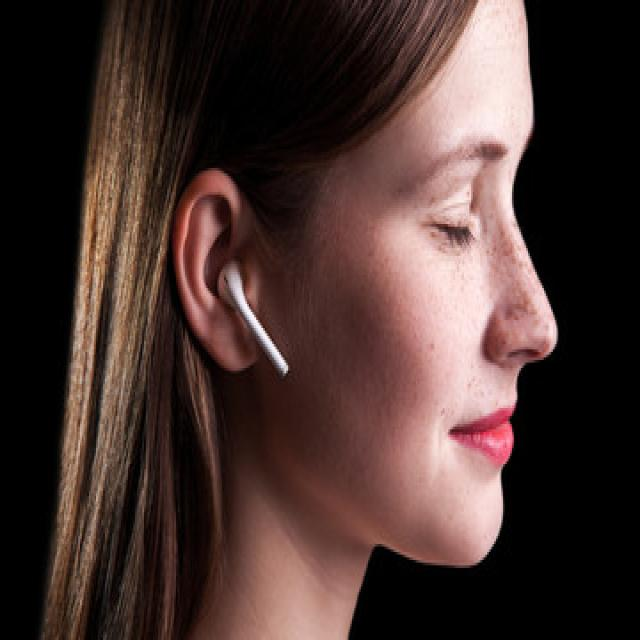airpods: (215, 252, 292, 386)
